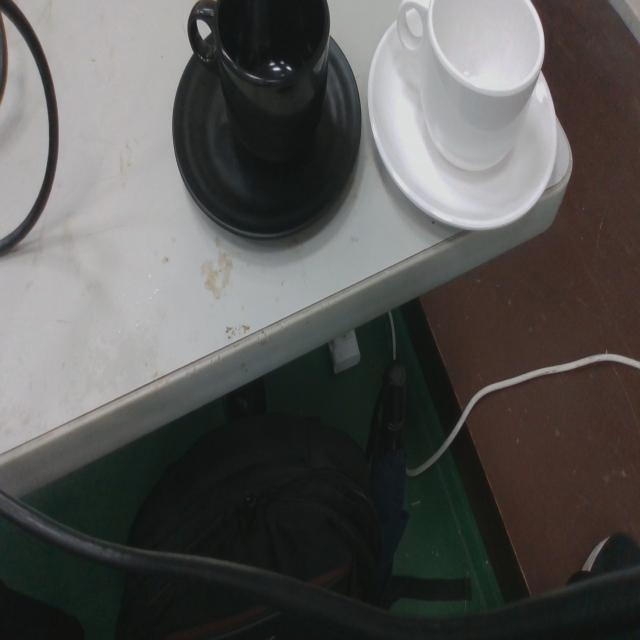black: (169, 0, 364, 249)
white: (366, 0, 561, 238)
